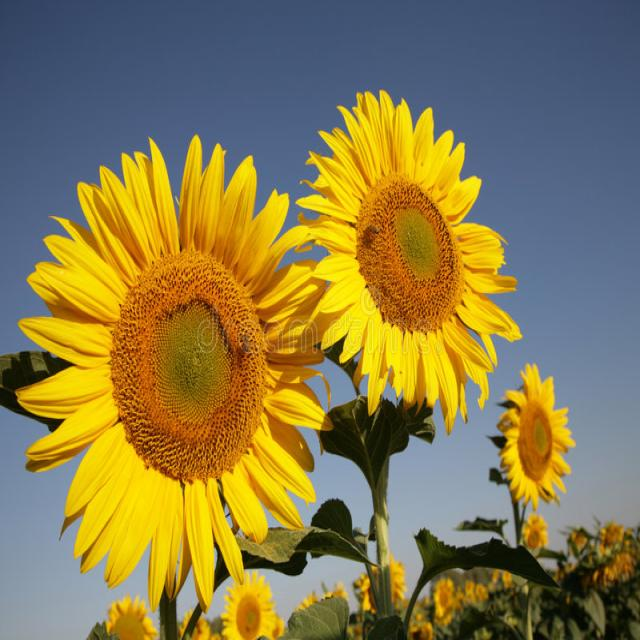sunflower: (22, 139, 340, 603), (294, 68, 512, 420), (502, 365, 576, 528)
